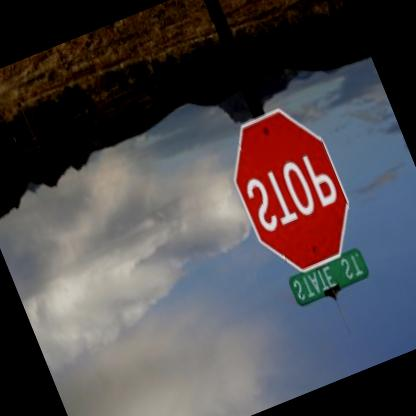stop: (213, 100, 366, 287)
